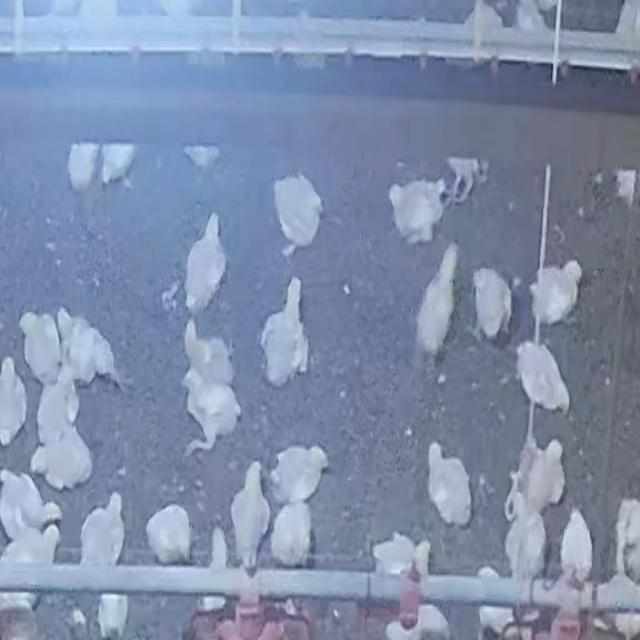chicken: (30, 379, 94, 491), (60, 306, 134, 394), (259, 276, 307, 386), (414, 243, 458, 359), (267, 169, 327, 254), (182, 371, 240, 452), (230, 461, 270, 570), (515, 341, 571, 417), (185, 213, 227, 312), (180, 316, 240, 384), (426, 441, 473, 527), (388, 178, 447, 246), (1, 469, 56, 540), (528, 260, 584, 329), (503, 497, 546, 583), (78, 492, 127, 566), (269, 444, 327, 506), (18, 311, 63, 387), (523, 438, 566, 514), (144, 502, 193, 564), (472, 267, 512, 342), (269, 502, 313, 567), (559, 507, 594, 582), (371, 530, 423, 578), (0, 356, 28, 445), (613, 498, 640, 578)
